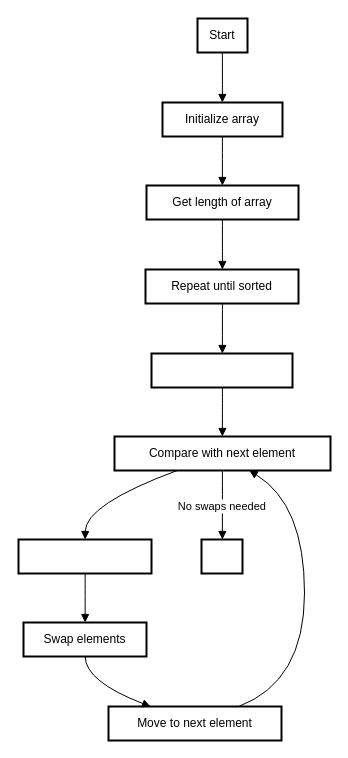
This 348x758 diagram has some shape labels left out. The centre of each missing label's shape, as x and y in pixels:
End: pixel 221 556
For each element: pixel 221 370
If current > next: pixel 84 556
